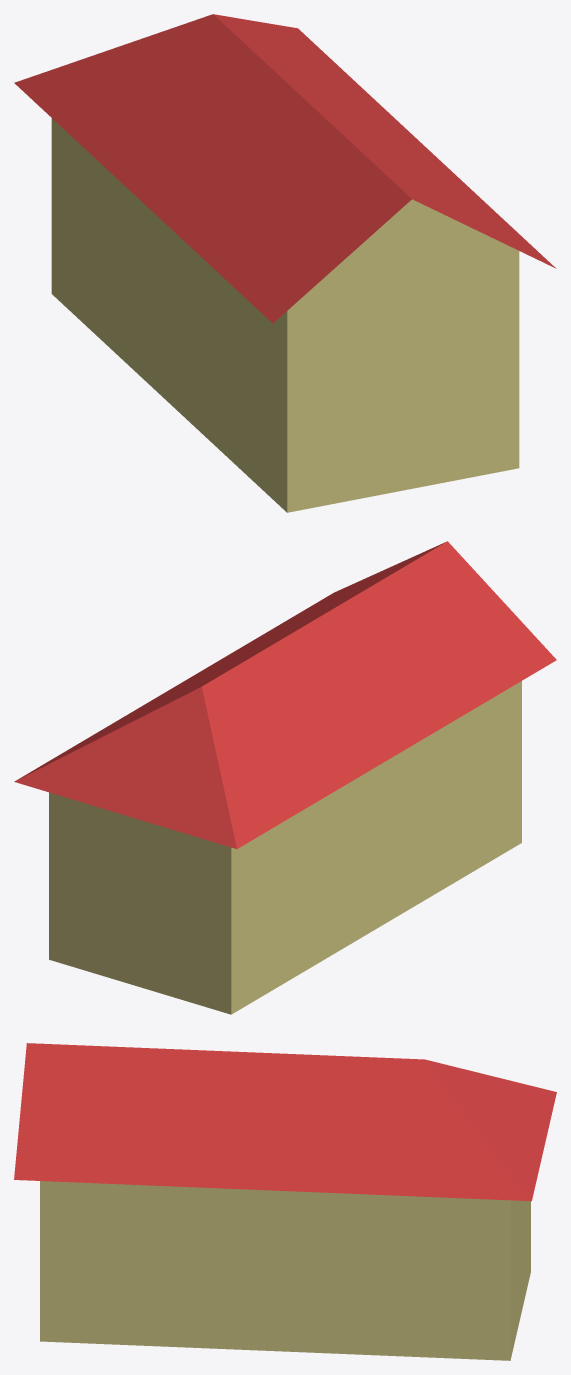
The picture shows the model from 3 angles, top to bottom: view 1: azimuth 30°, elevation 25°; view 2: azimuth 150°, elevation 25°; view 3: azimuth 270°, elevation 25°; orthographic projection. The views are drawn at different scales.
Size of the model in its own units: 9.74 by 17.14 by 8.77.
